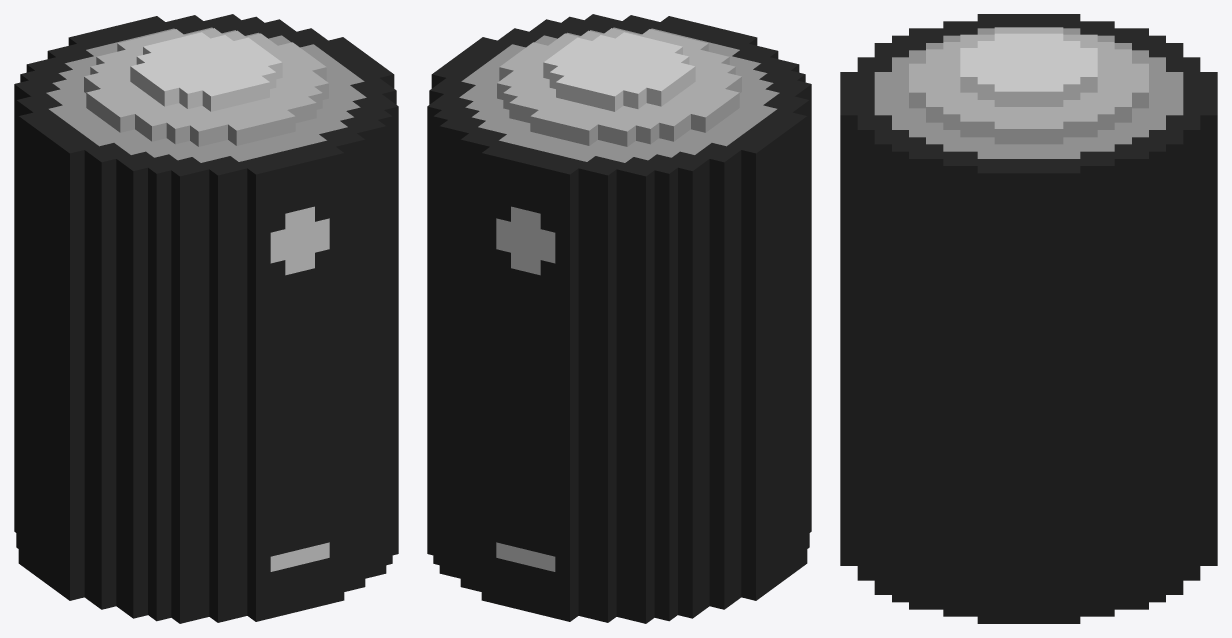
File: battery_3_1.2b.obj
3 views of the same model, side by side, from view 1: azimuth 30°, elevation 25°; view 2: azimuth 150°, elevation 25°; view 3: azimuth 270°, elevation 25° (orthographic).
Bounding box in the file's own units: 2.2 × 3.1 × 2.2.
Materials: 1 (1 with a texture image).
